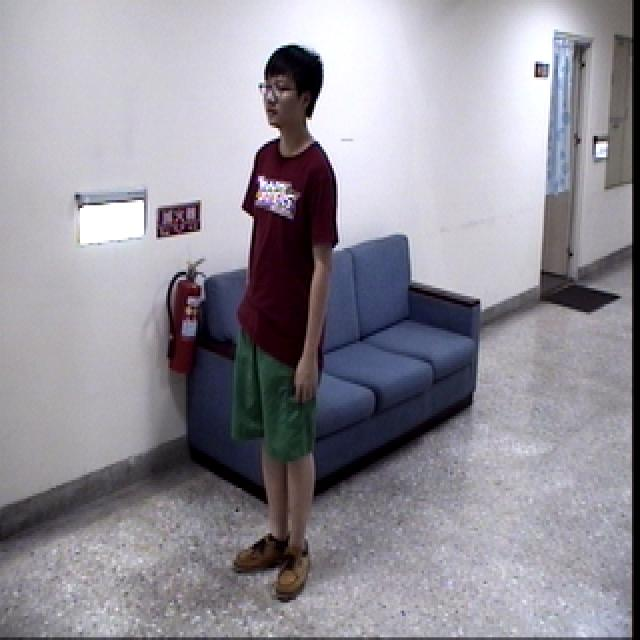stand: (229, 36, 354, 600)
